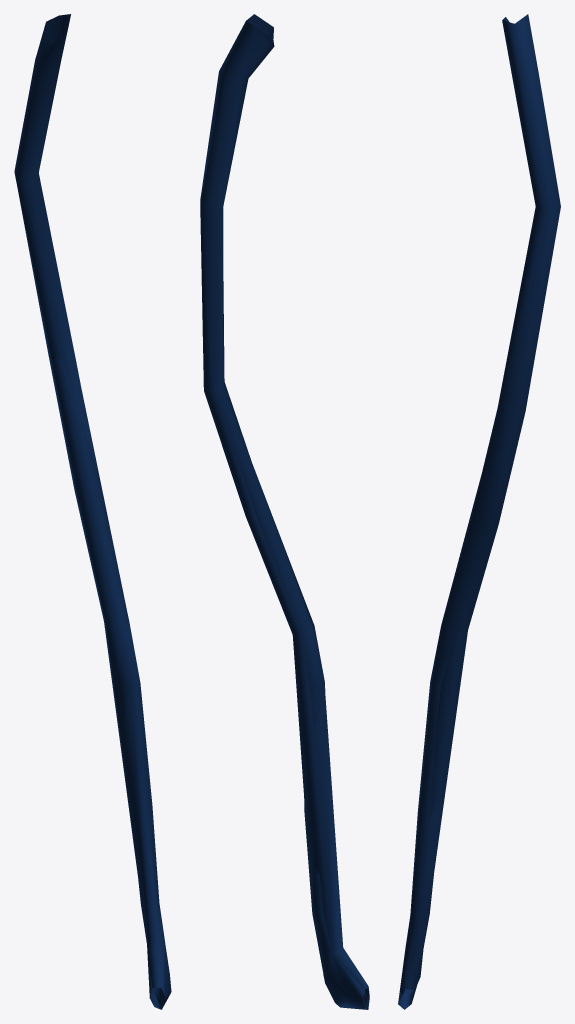
File: R vena digitalis palmaris communis II.fbx
3 views of the same model, side by side, from view 1: azimuth 90°, elevation 25°; view 2: azimuth 150°, elevation 25°; view 3: azimuth 270°, elevation 25° (orthographic). The views are drawn at different scales.
Parts seen in each view (by area): view 1: R vena digitalis palmaris communis II, R vena digitalis palmaris communis II low; view 2: R vena digitalis palmaris communis II, R vena digitalis palmaris communis II low; view 3: R vena digitalis palmaris communis II, R vena digitalis palmaris communis II low.
Boxes of the visible parts, box(x1,y1,x2,y2) form: R vena digitalis palmaris communis II: box(14, 14, 171, 1009); R vena digitalis palmaris communis II low: box(27, 17, 171, 1009); R vena digitalis palmaris communis II: box(200, 14, 369, 1009); R vena digitalis palmaris communis II low: box(200, 24, 368, 1009); R vena digitalis palmaris communis II: box(398, 14, 560, 1009); R vena digitalis palmaris communis II low: box(398, 37, 560, 1003).
Bounding box in the file's own units: 1.11 × 9.65 × 1.41.
